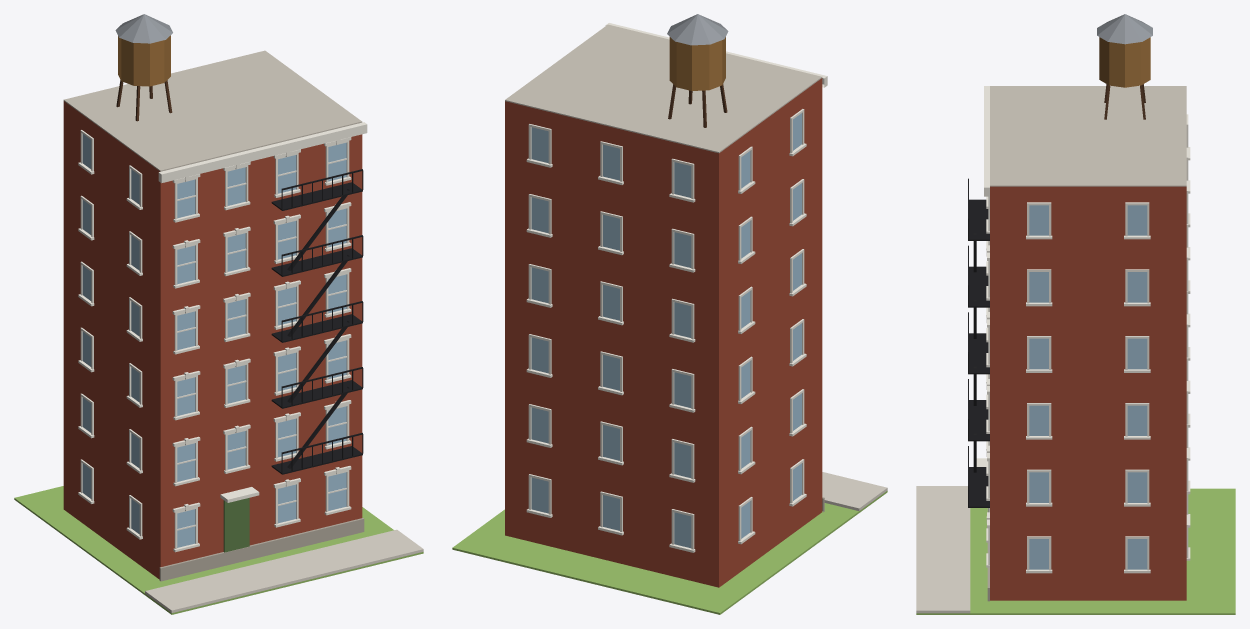
Rendered from Konut_tugla_apt_3_Hafif.fbx.
The picture shows the model from 3 angles, left to right: view 1: azimuth 30°, elevation 25°; view 2: azimuth 150°, elevation 25°; view 3: azimuth 270°, elevation 25°; orthographic projection. The views are drawn at different scales.
Parts seen in each view (by area): view 1: Konut_tugla_apt_3_Hafif; view 2: Konut_tugla_apt_3_Hafif; view 3: Konut_tugla_apt_3_Hafif.
Boxes of the visible parts, x1,y1,x2,y2 form: Konut_tugla_apt_3_Hafif: (14,14,423,614); Konut_tugla_apt_3_Hafif: (452,14,887,614); Konut_tugla_apt_3_Hafif: (916,14,1235,614).
Size of the model in its own units: 12 by 23.08 by 13.
